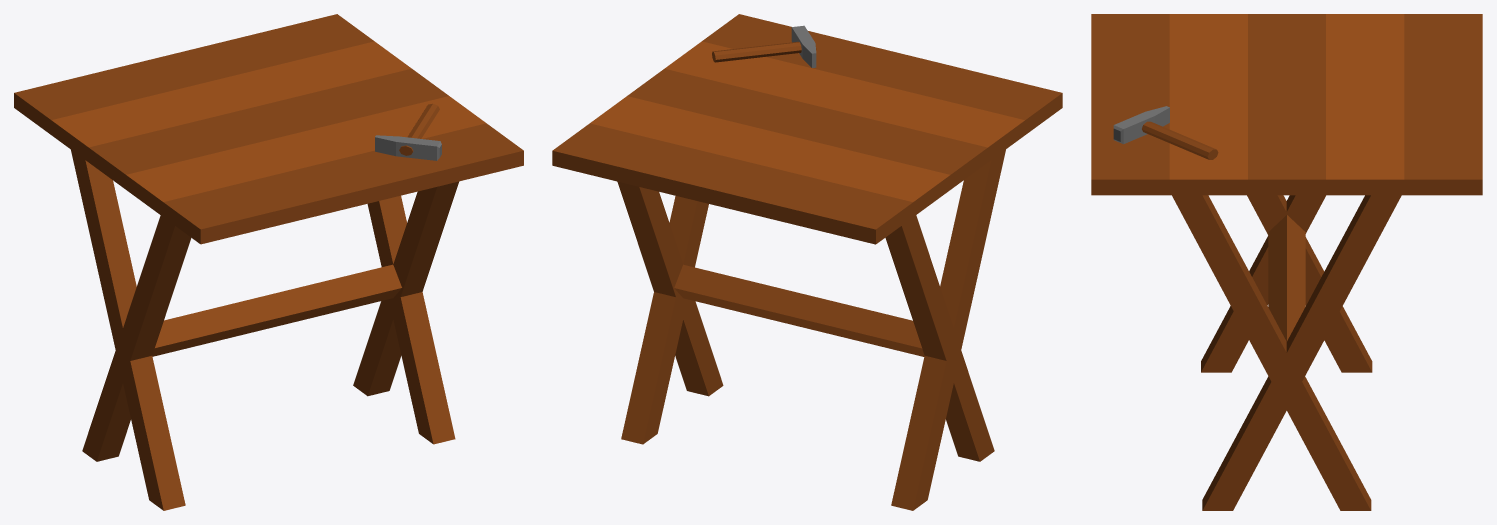
The model's file is Low_Poly_Crafting_Table.fbx.
3 views of the same model, side by side, from view 1: azimuth 30°, elevation 25°; view 2: azimuth 150°, elevation 25°; view 3: azimuth 270°, elevation 25° (orthographic). The views are drawn at different scales.
Visible parts, largest first — view 1: CraftingTable; view 2: CraftingTable; view 3: CraftingTable.
Boxes of the visible parts, x1,y1,x2,y2 form: CraftingTable: (14,14,523,510); CraftingTable: (552,14,1062,510); CraftingTable: (1091,14,1482,510).
Size of the model in its own units: 100 by 100 by 100.
